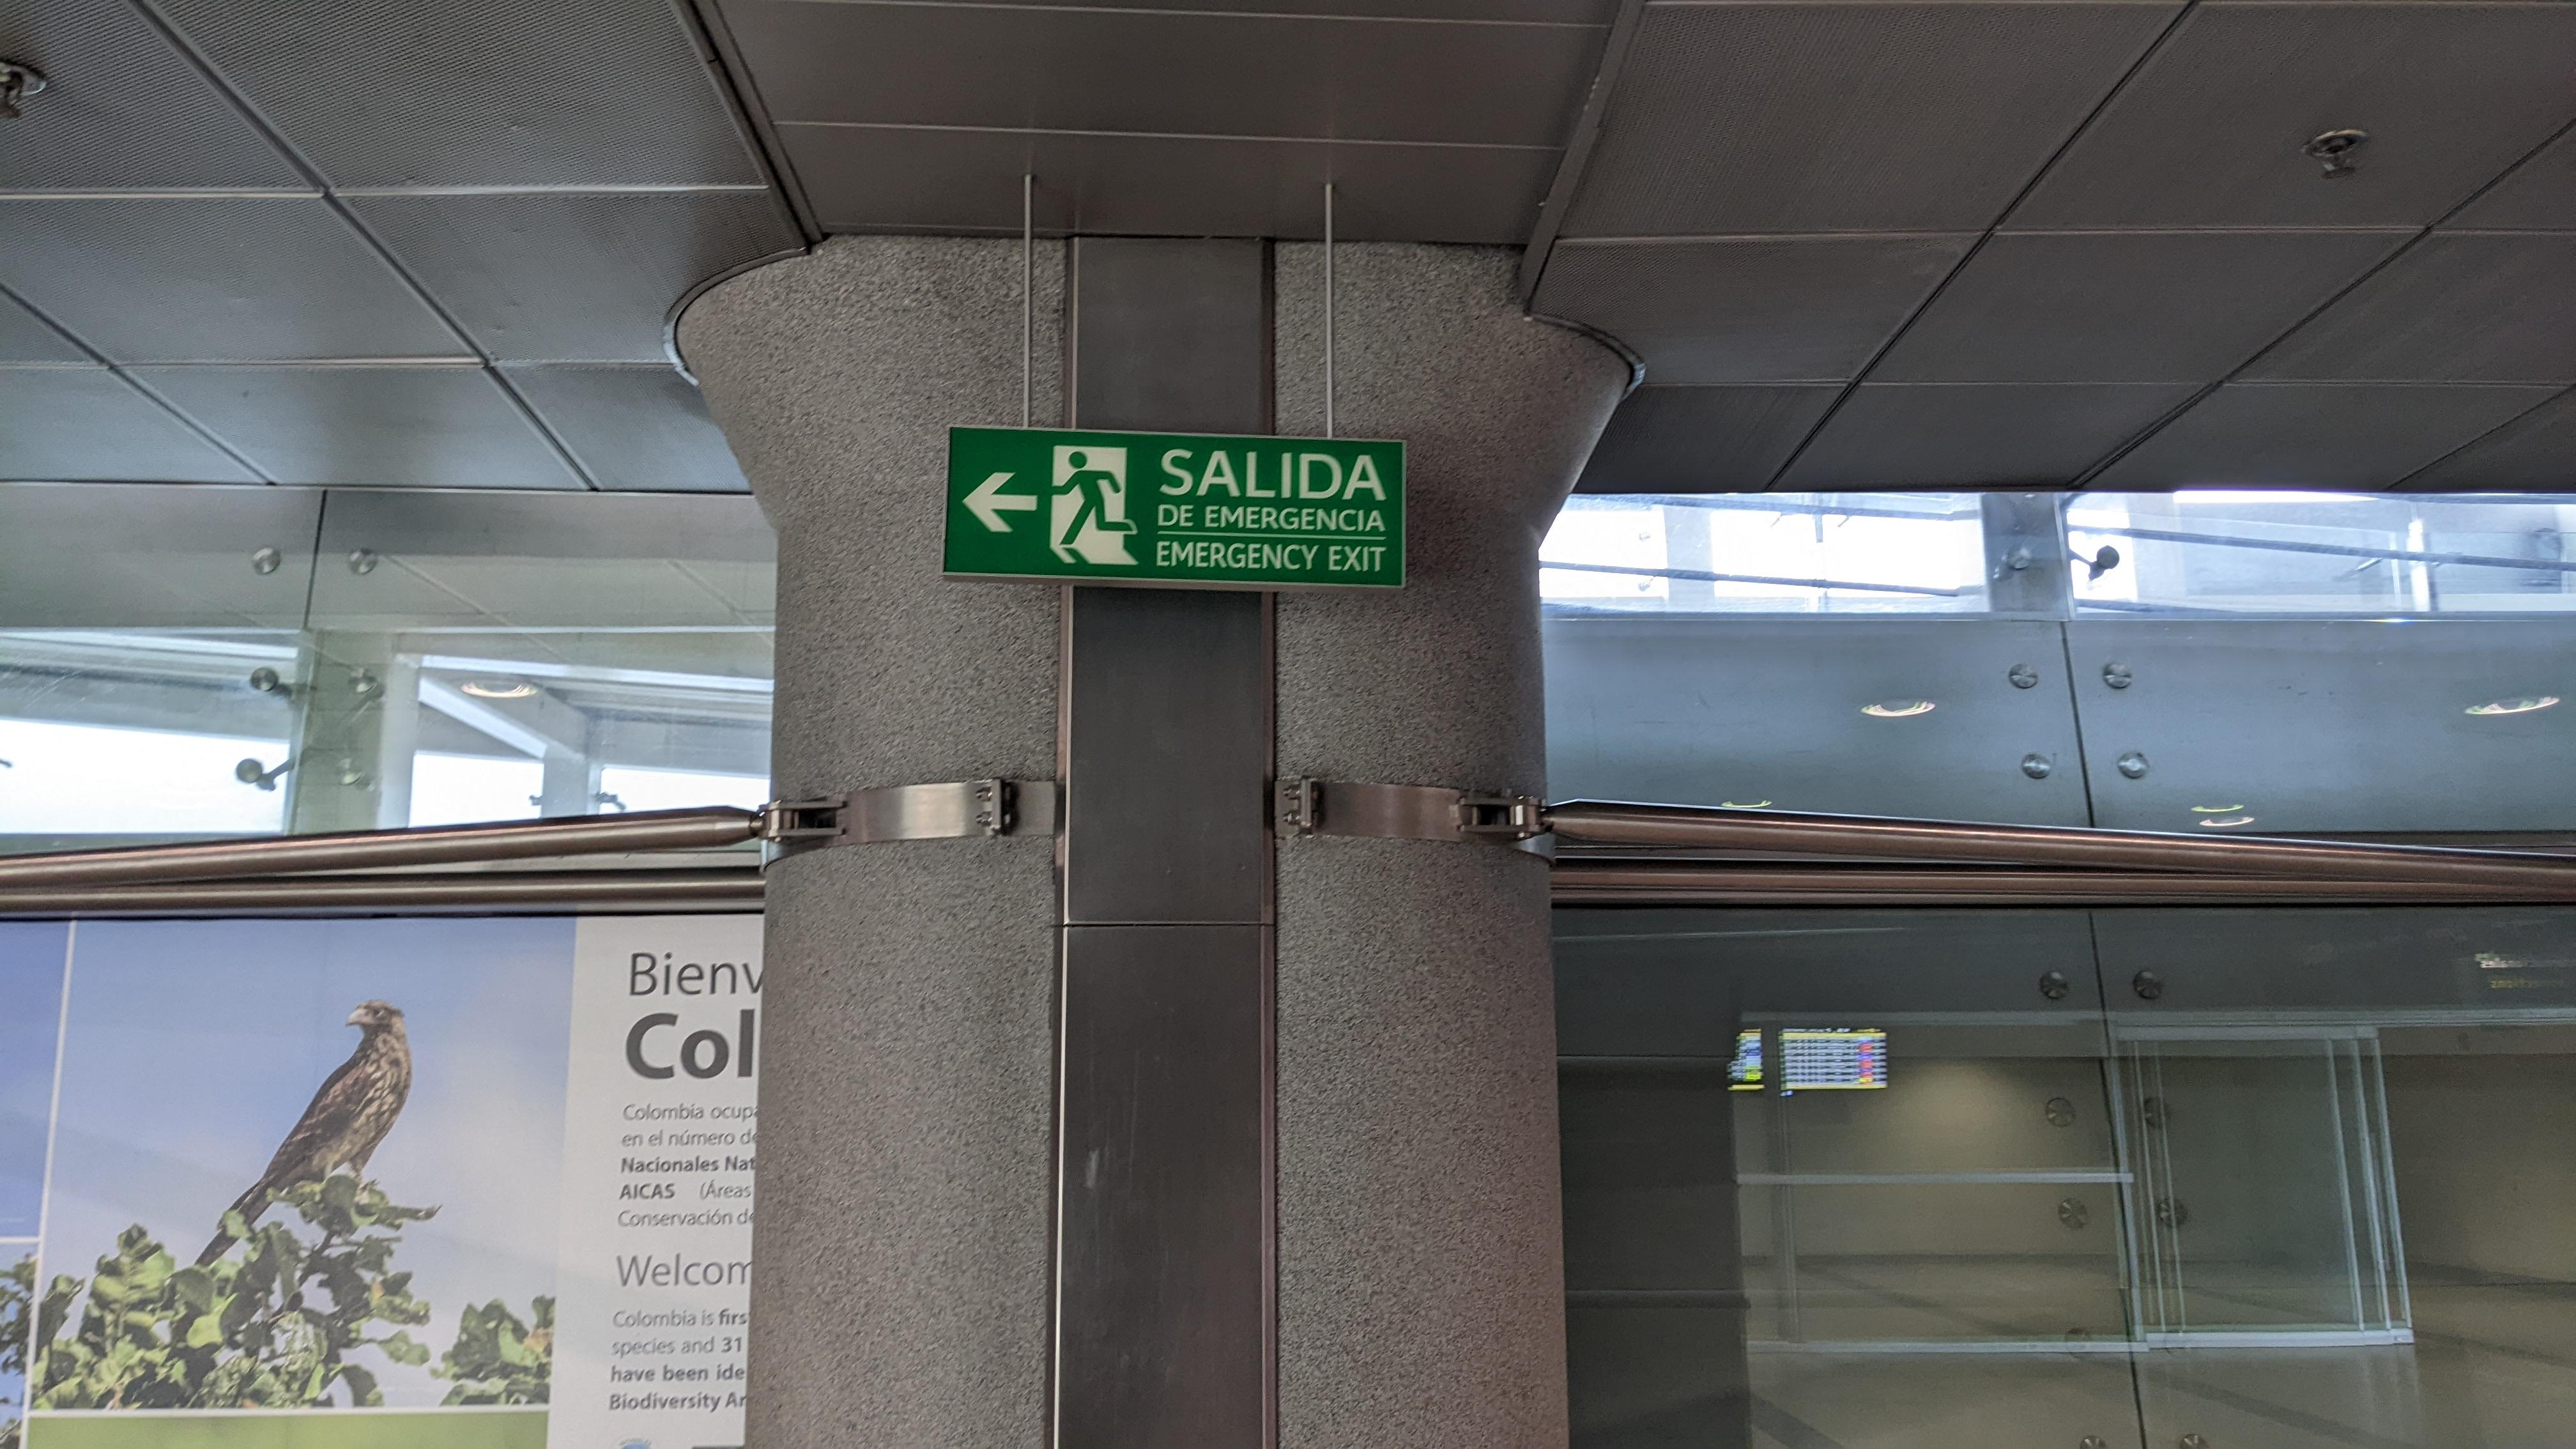emergency exit: (1047, 441, 1143, 570)
emergency left arrow: (961, 469, 1040, 534)
